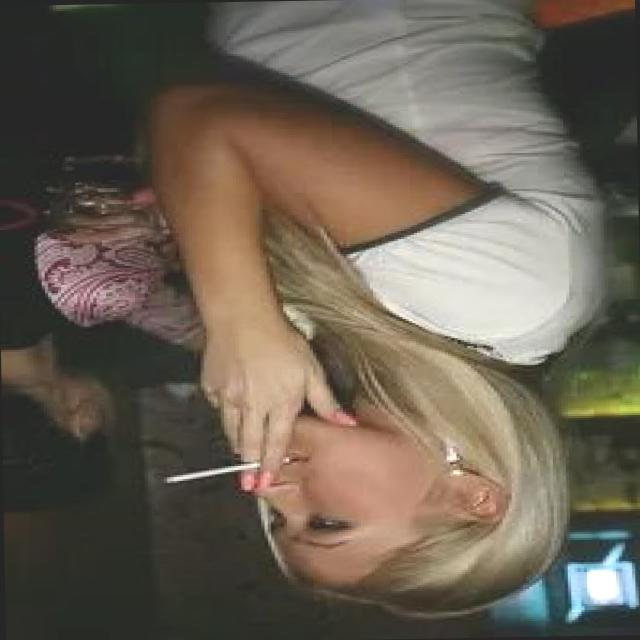smoke: (153, 448, 302, 491)
